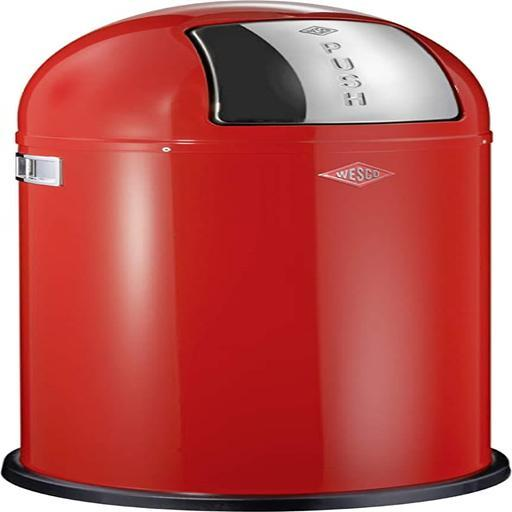Crewmate: (6, 1, 512, 506)
